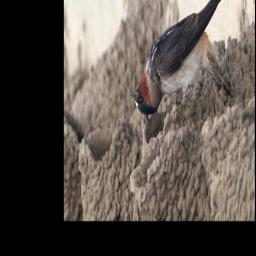Swallow: (129, 0, 235, 116)
